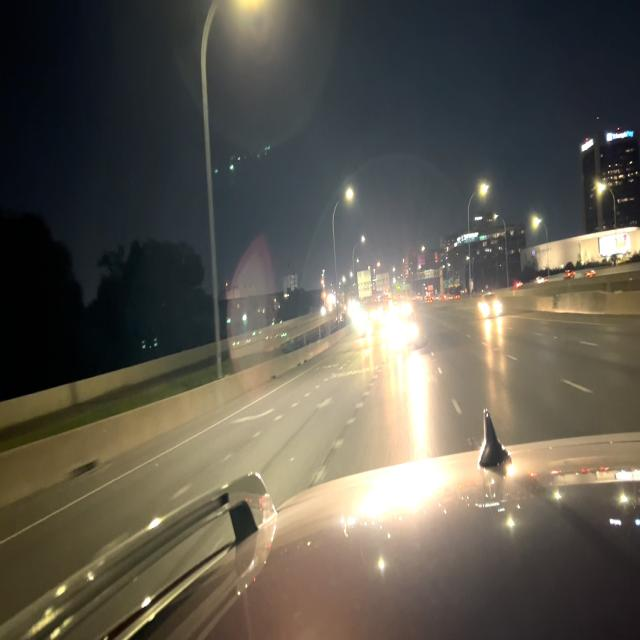back-of-sign: (357, 269, 373, 301), (377, 272, 391, 293)
